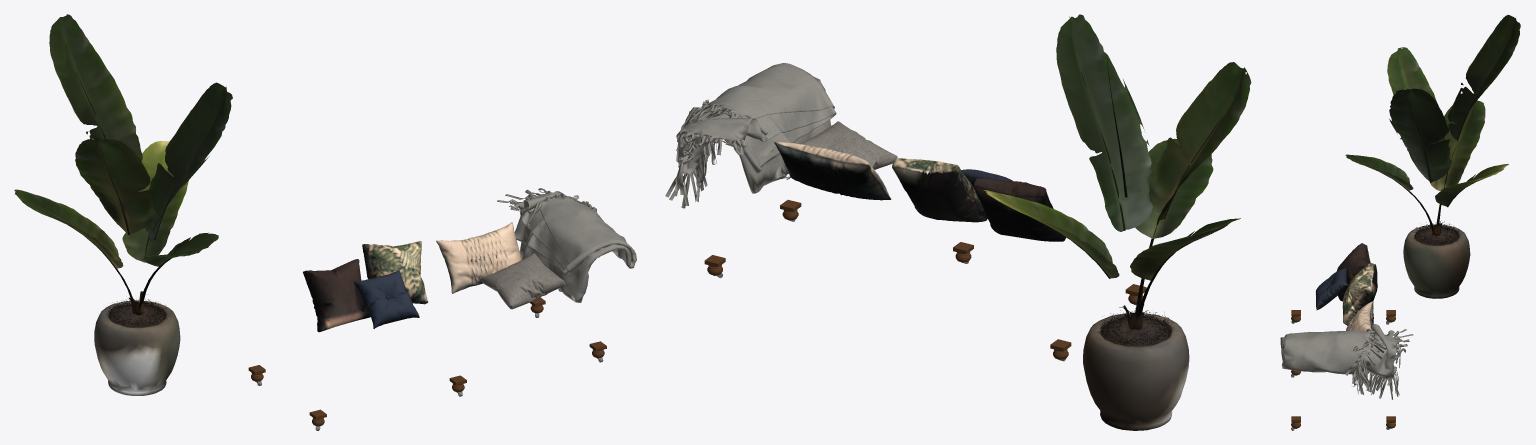
Rendered from sofa.glb.
3 views of the same model, side by side, from view 1: azimuth 30°, elevation 25°; view 2: azimuth 150°, elevation 25°; view 3: azimuth 270°, elevation 25° (orthographic). The views are drawn at different scales.
Parts seen in each view (by area): view 1: Circle, forget, Beehive pillow.001, Chocofur_Textile_03.004, Chocofur_Textile_03.005, Chocofur_Textile_03.001, Blue velvet button cushion A.001, Kensington legs; view 2: Circle, forget, Chocofur_Textile_03.001, Beehive pillow.001, Chocofur_Textile_03.004, Chocofur_Textile_03.005, Kensington legs; view 3: Circle, forget, Chocofur_Textile_03.001, Blue velvet button cushion A.001, Chocofur_Textile_03.004, Kensington legs, Beehive pillow.001.
Boxes of the visible parts, left/top/right/bottom form: Circle: left=14, top=14, right=232, bottom=395; forget: left=497, top=188, right=636, bottom=302; Beehive pillow.001: left=436, top=222, right=521, bottom=293; Chocofur_Textile_03.004: left=303, top=259, right=370, bottom=332; Chocofur_Textile_03.005: left=481, top=253, right=565, bottom=309; Chocofur_Textile_03.001: left=362, top=241, right=428, bottom=304; Blue velvet button cushion A.001: left=354, top=270, right=419, bottom=328; Kensington legs: left=248, top=297, right=606, bottom=430; Circle: left=983, top=14, right=1251, bottom=430; forget: left=665, top=63, right=836, bottom=208; Chocofur_Textile_03.001: left=892, top=158, right=987, bottom=222; Beehive pillow.001: left=774, top=142, right=891, bottom=200; Chocofur_Textile_03.004: left=973, top=178, right=1065, bottom=241; Chocofur_Textile_03.005: left=800, top=121, right=897, bottom=169; Kensington legs: left=704, top=200, right=1146, bottom=361; Circle: left=1345, top=15, right=1520, bottom=298; forget: left=1280, top=324, right=1413, bottom=399; Chocofur_Textile_03.001: left=1342, top=263, right=1377, bottom=325; Blue velvet button cushion A.001: left=1315, top=268, right=1348, bottom=310; Chocofur_Textile_03.004: left=1336, top=243, right=1370, bottom=301; Kensington legs: left=1291, top=310, right=1395, bottom=430; Beehive pillow.001: left=1346, top=301, right=1373, bottom=331.
Size of the model in its own units: 3.51 by 2.17 by 1.81.
Materials: 6 (4 with a texture image).
